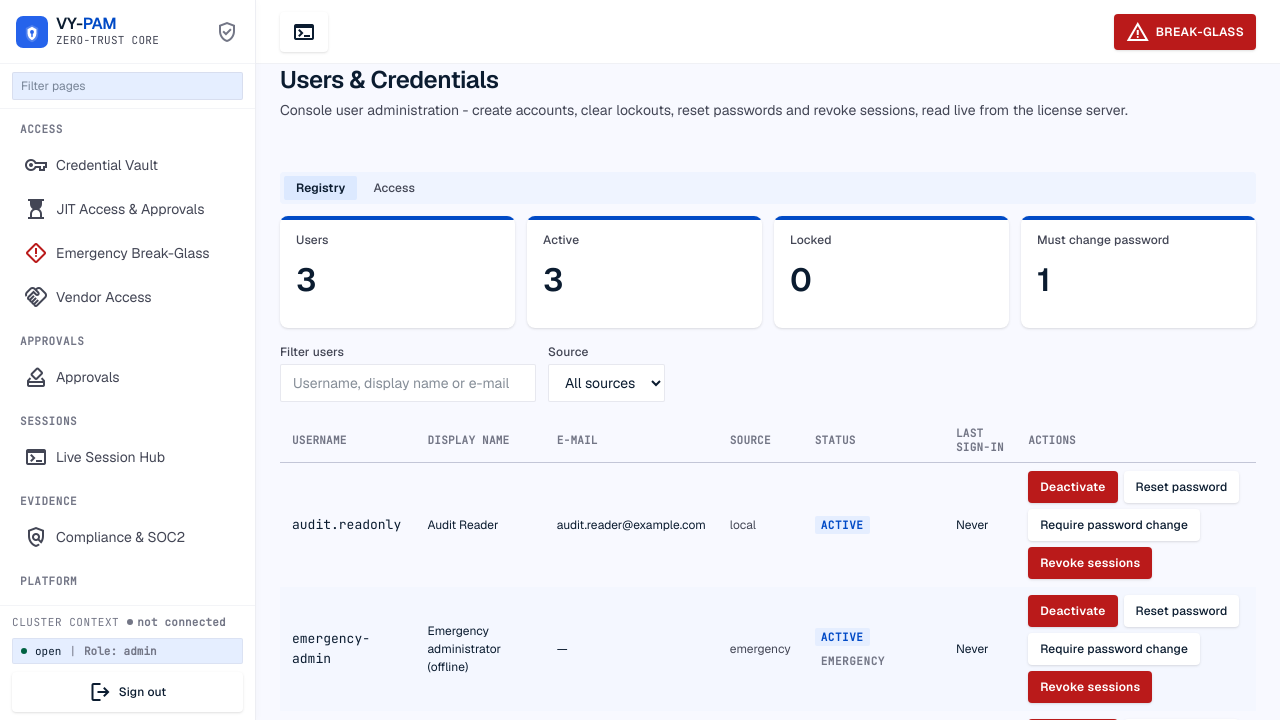
Scenario: UsersPage (ADR-0016 batch 11.7, contract-shaped) › offers Require password change on a normal row, asks and PATCHes the flag (captured)
Click the button "Require password change" in the row of "audit.readonly". click: x=1114, y=525
box: left=1028, top=509, right=1200, bottom=541
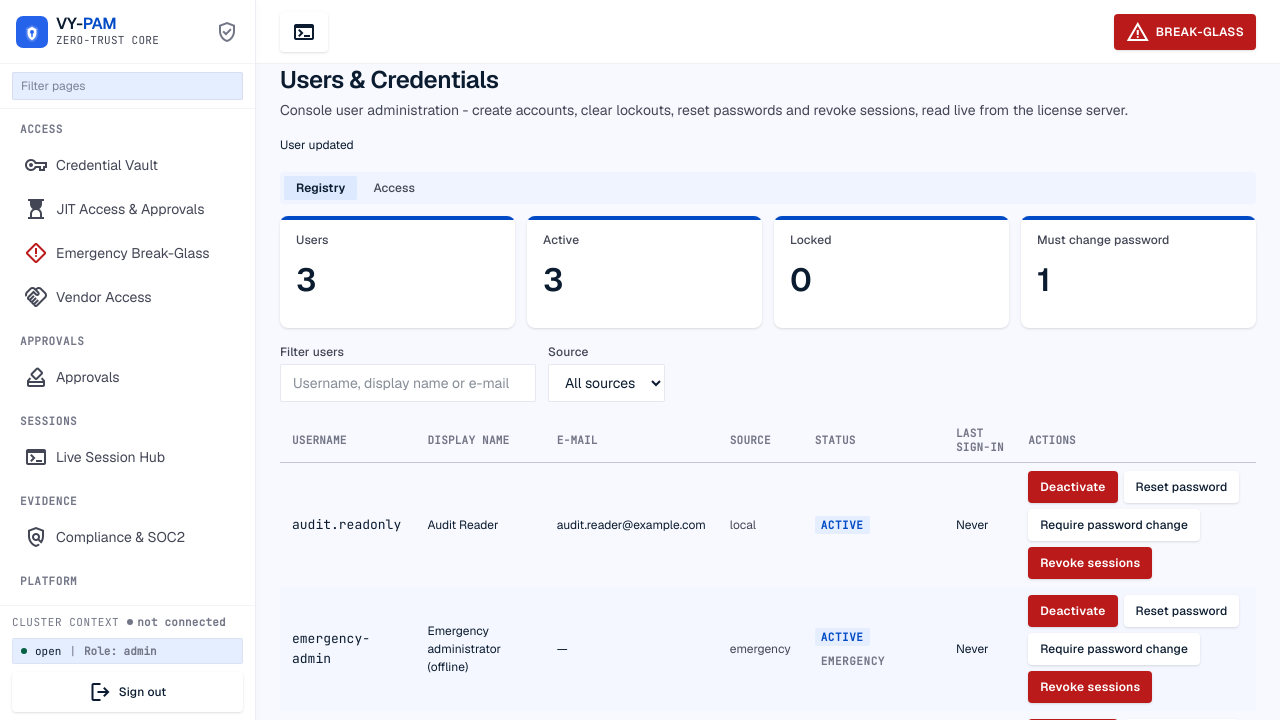
Result: the text "User updated" is shown at left=280, top=137, right=354, bottom=153
